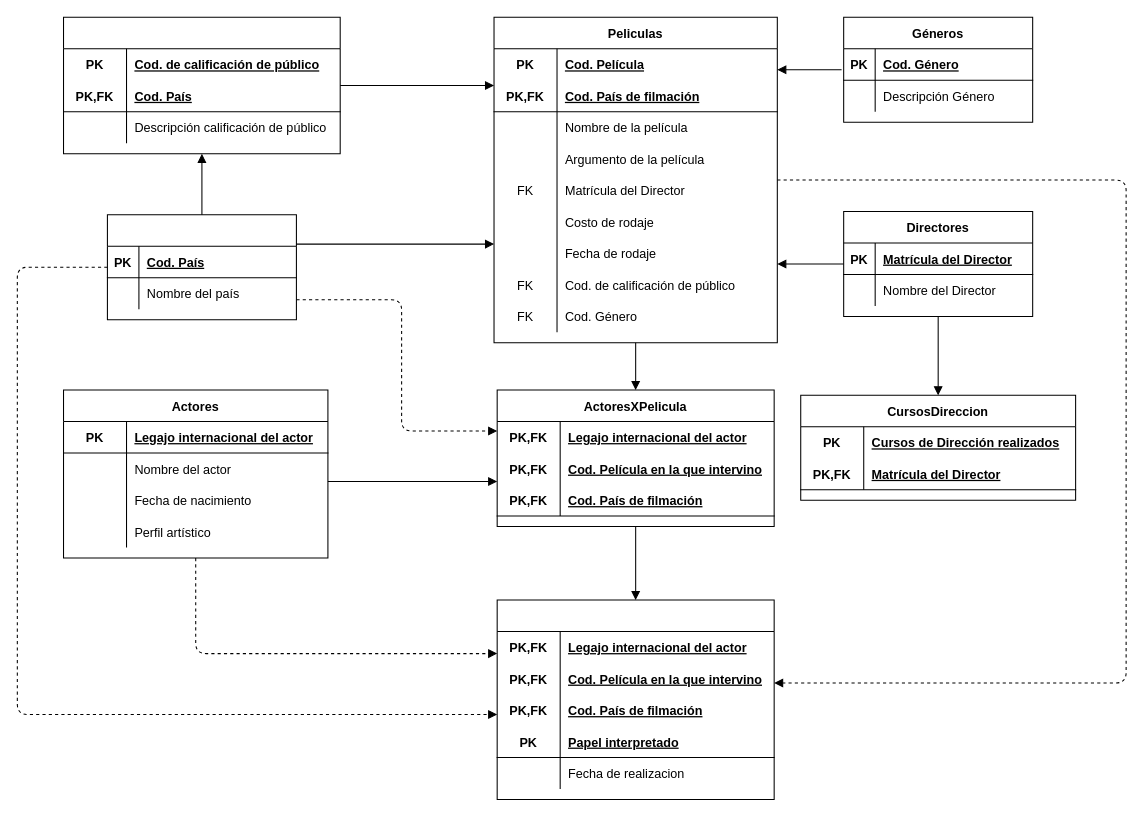
Some shapes in this 1143 by 817 pixel diagram are drawn without their labels. Here are the shapes that lost their labels. From the top down, the box of each, then its label:
(62, 16, 340, 154): Calificaciones
(106, 214, 296, 320): Paises
(496, 599, 774, 800): Antecedentes
